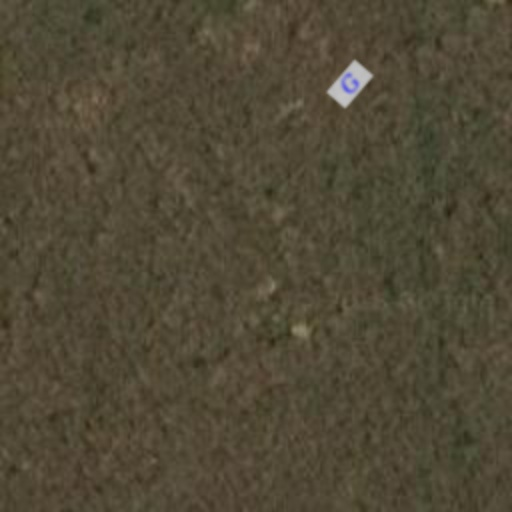rectangle: (318, 52, 382, 116)
